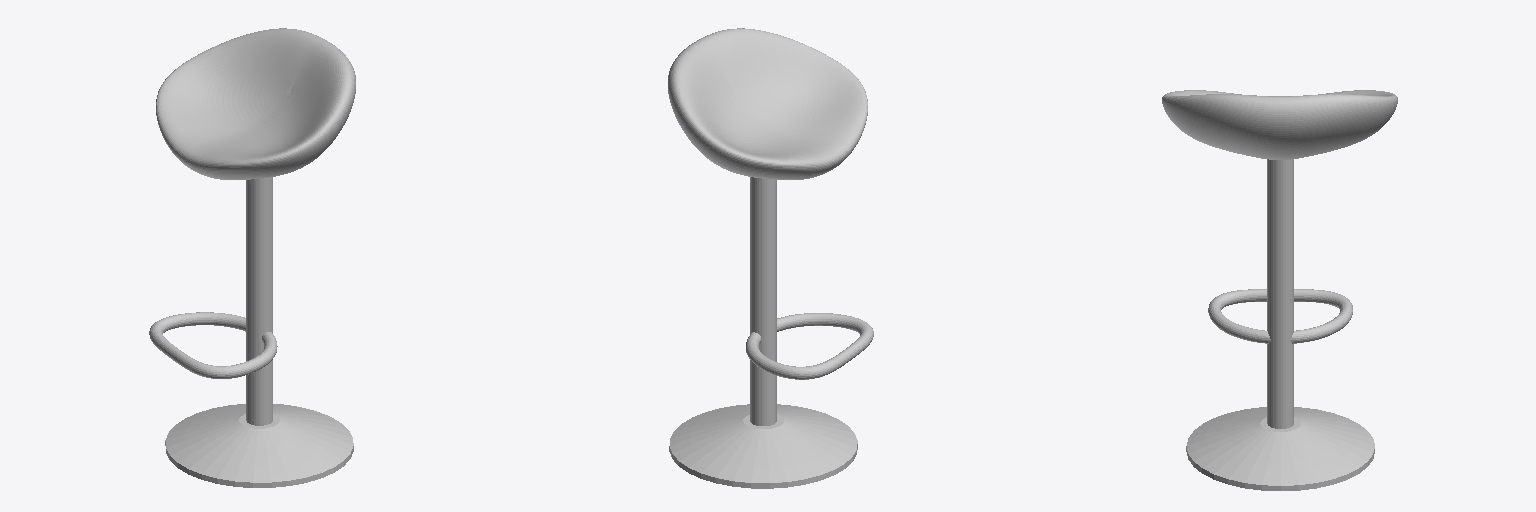
The model's file is Bar Stool.obj.
The picture shows the model from 3 angles: view 1: azimuth 30°, elevation 25°; view 2: azimuth 150°, elevation 25°; view 3: azimuth 270°, elevation 25°; orthographic projection.
Visible parts, largest first — view 1: Chair_Sphere, Silver_Cylinder; view 2: Chair_Sphere, Silver_Cylinder; view 3: Silver_Cylinder, Chair_Sphere.
Part boxes in pixels (x1,y1,x2,y2): Chair_Sphere: (156,28,355,179); Silver_Cylinder: (149,177,353,487); Chair_Sphere: (668,28,867,179); Silver_Cylinder: (669,177,873,488); Silver_Cylinder: (1186,159,1374,490); Chair_Sphere: (1162,90,1397,159).
Size of the model in its own units: 0.4967 by 1.07 by 0.5924.